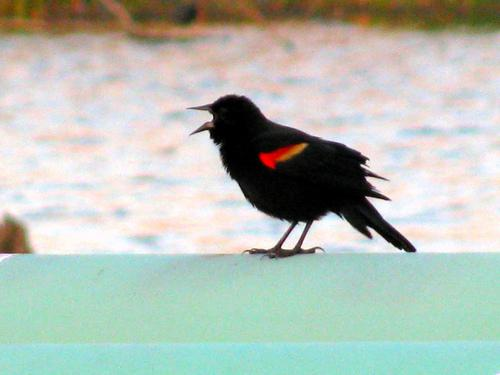010.Red_winged_Blackbird: (185, 93, 420, 260)
